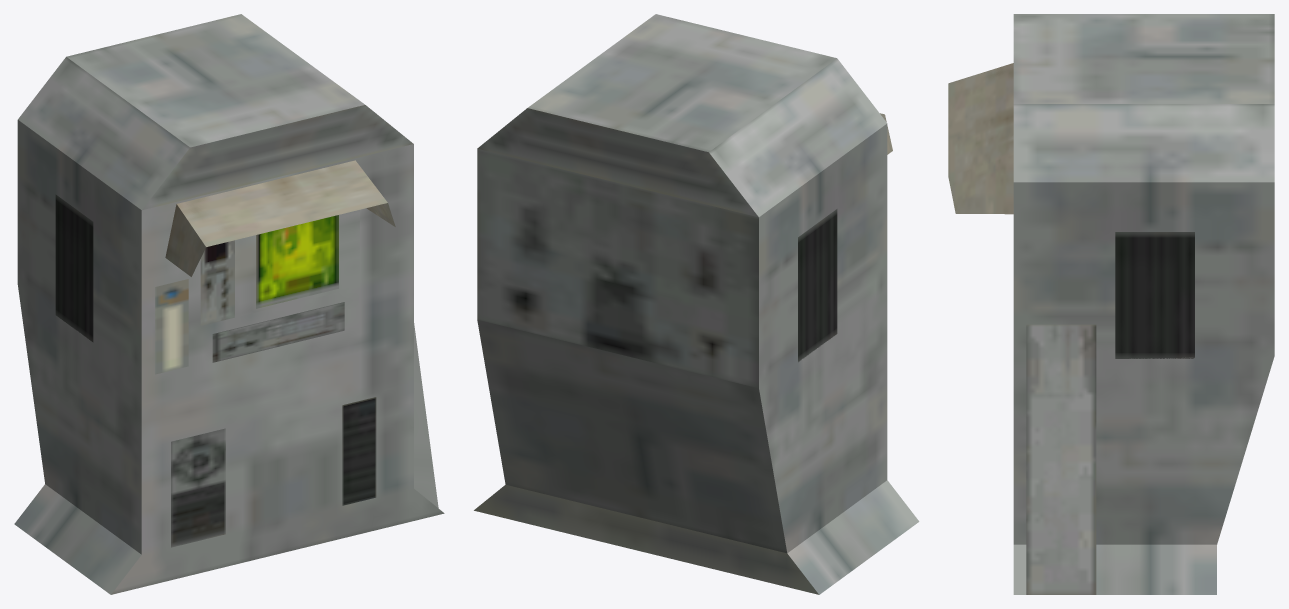
File: ksk_all_shipping_l2.fbx
The picture shows the model from 3 angles, left to right: view 1: azimuth 30°, elevation 25°; view 2: azimuth 150°, elevation 25°; view 3: azimuth 270°, elevation 25°; orthographic projection. The views are drawn at different scales.
Visible parts, largest first — view 1: mesh_node; view 2: mesh_node; view 3: mesh_node.
Boxes of the visible parts, <box> form: mesh_node: <box>14,14,444,594</box>; mesh_node: <box>474,14,919,594</box>; mesh_node: <box>948,14,1274,594</box>.
Size of the model in its own units: 1.99 by 2.44 by 1.6.
Materials: 1 (1 with a texture image).
